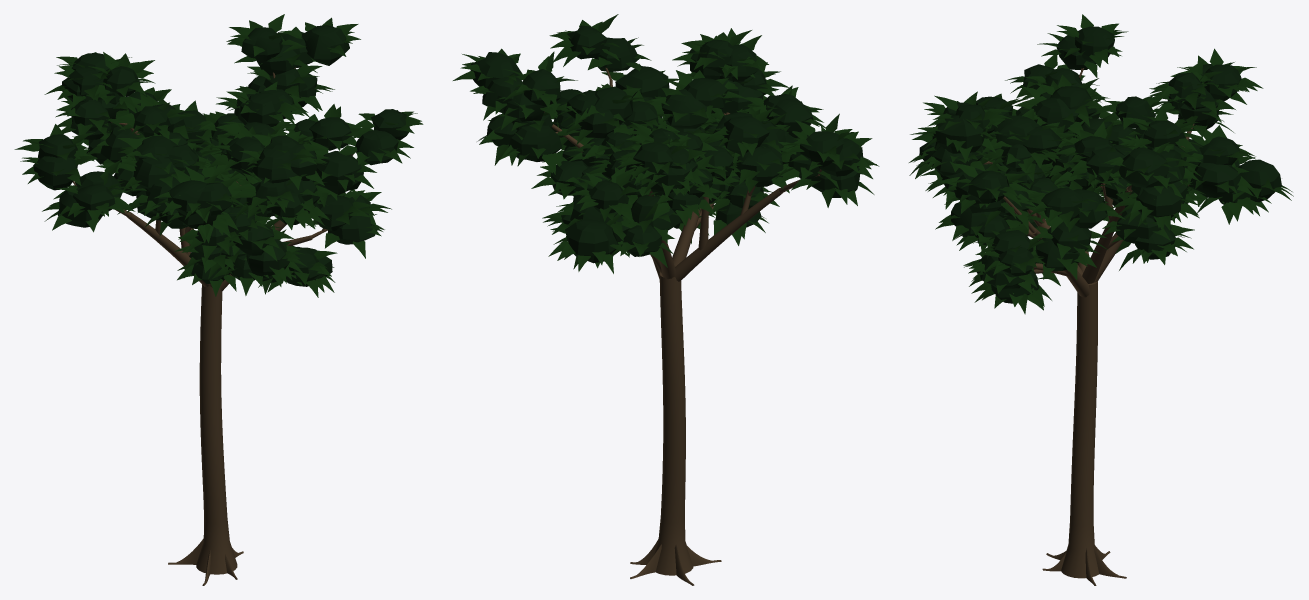
Rendered from broadleaf_canopy_tree.glb.
3 renders of one model, left to right at view 1: azimuth 30°, elevation 25°; view 2: azimuth 150°, elevation 25°; view 3: azimuth 270°, elevation 25°, orthographic. The views are drawn at different scales.
Parts seen in each view (by area): view 1: Foliage masses, Leaf clusters, Trunk, buttresses and branches; view 2: Foliage masses, Leaf clusters, Trunk, buttresses and branches; view 3: Foliage masses, Leaf clusters, Trunk, buttresses and branches.
Boxes of the visible parts, box(x1,y1,x2,y2) form: Foliage masses: box(33, 25, 409, 286); Leaf clusters: box(14, 14, 423, 297); Trunk, buttresses and branches: box(72, 67, 353, 585); Foliage masses: box(470, 25, 863, 263); Leaf clusters: box(453, 14, 879, 273); Trunk, buttresses and branches: box(544, 67, 821, 585); Foliage masses: box(919, 26, 1281, 303); Leaf clusters: box(909, 14, 1293, 314); Trunk, buttresses and branches: box(983, 68, 1194, 585).
Bounding box in the file's own units: 19.34 × 24.99 × 17.62.
3 materials, 3 textured.
